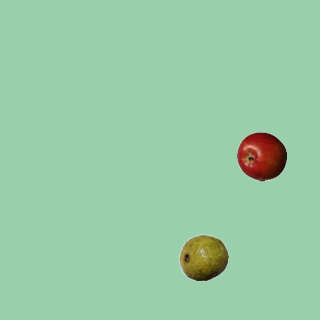Apple Braeburn: (236, 131, 286, 181)
Guava: (178, 232, 228, 282)
